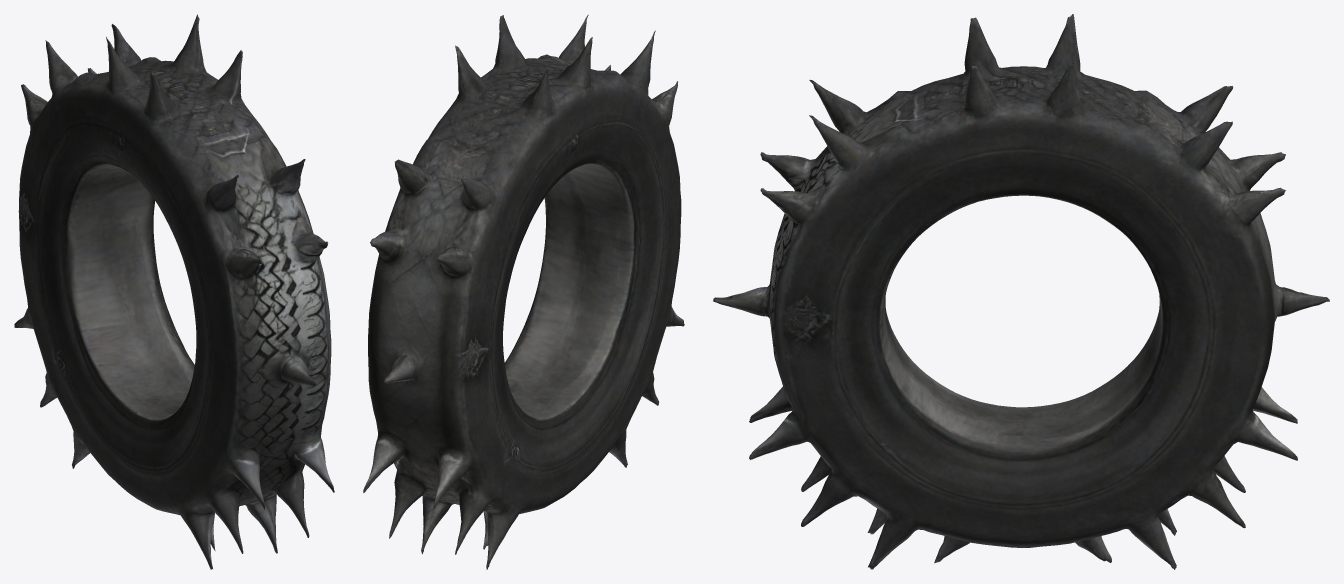
The model's file is SpikedWheel.glb.
The picture shows the model from 3 angles, left to right: view 1: azimuth 30°, elevation 25°; view 2: azimuth 150°, elevation 25°; view 3: azimuth 270°, elevation 25°; orthographic projection. The views are drawn at different scales.
Parts seen in each view (by area): view 1: Mesh_0; view 2: Mesh_0; view 3: Mesh_0.
Part boxes in pixels (x1,y1,x2,y2): Mesh_0: (14,14,334,569); Mesh_0: (363,14,684,569); Mesh_0: (713,14,1329,569).
Size of the model in its own units: 0.4308 by 1.86 by 1.98.
1 material, 1 textured.
